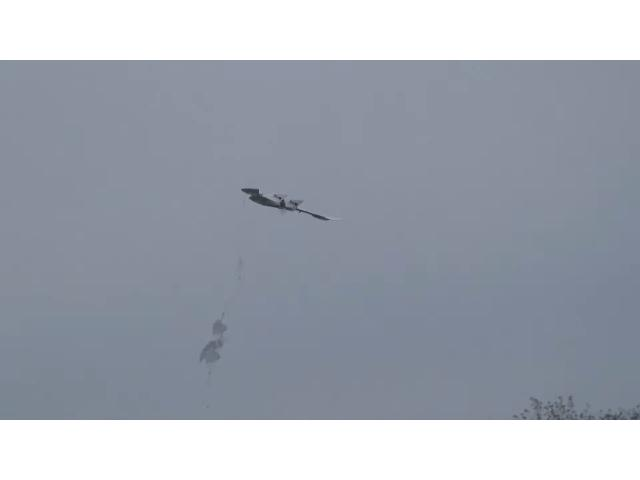Anti-Drone: (240, 188, 340, 223)
